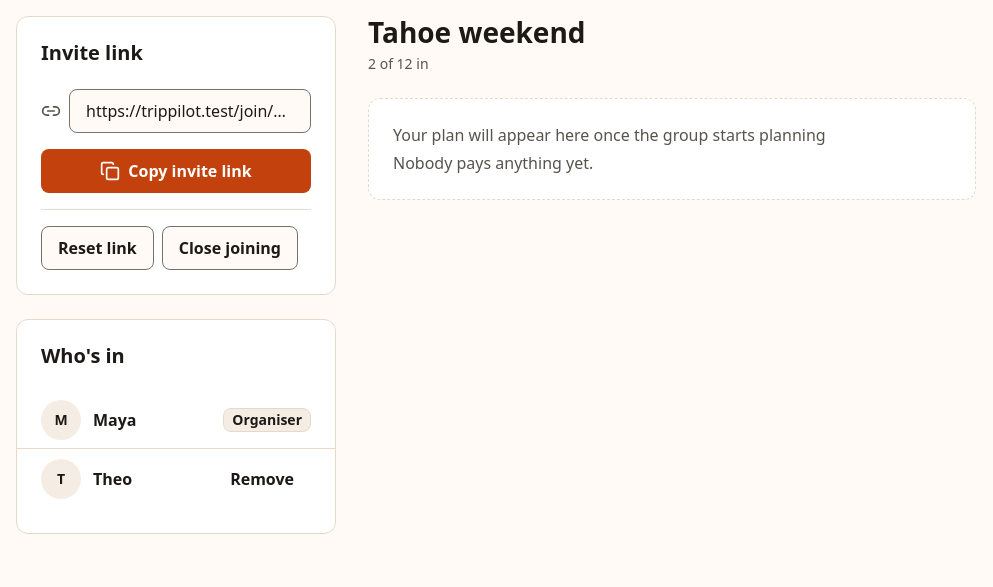
TripPage organiser invite card › falls back to press-and-hold when the clipboard refuses
Expected: the field named "Invite link address" holds "https://trippilot.test/join/abc123", [69,89,311,133]
Click the button "Copy invite link" at (176, 171), box [41,149,311,193]
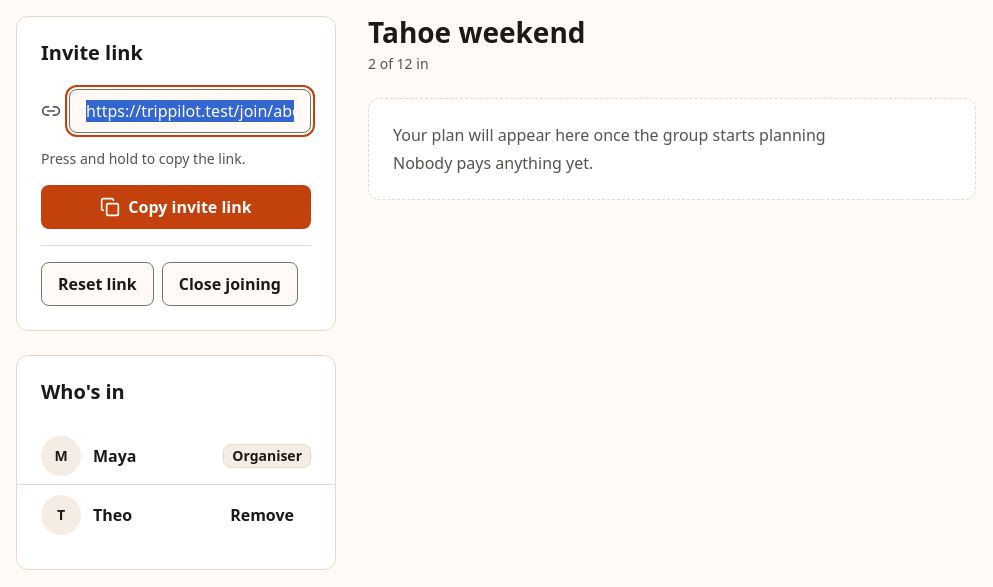
Result: the text "Press and hold to copy the link." is shown at [41,149,246,168]
